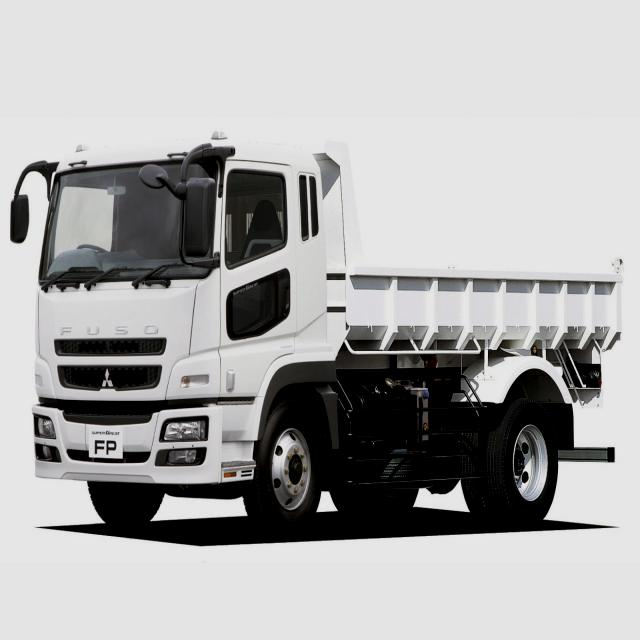truck: (8, 139, 621, 533)
